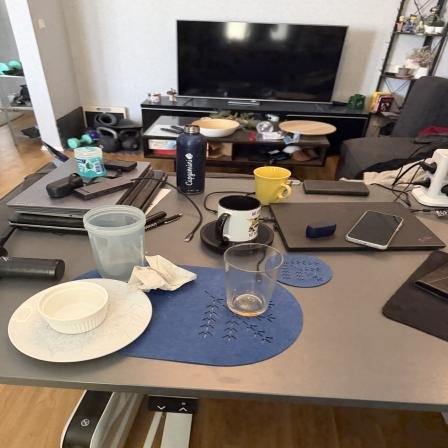blue_bottle: (170, 123, 210, 194)
phone: (348, 205, 405, 249)
yellow_cup: (258, 165, 292, 206)
